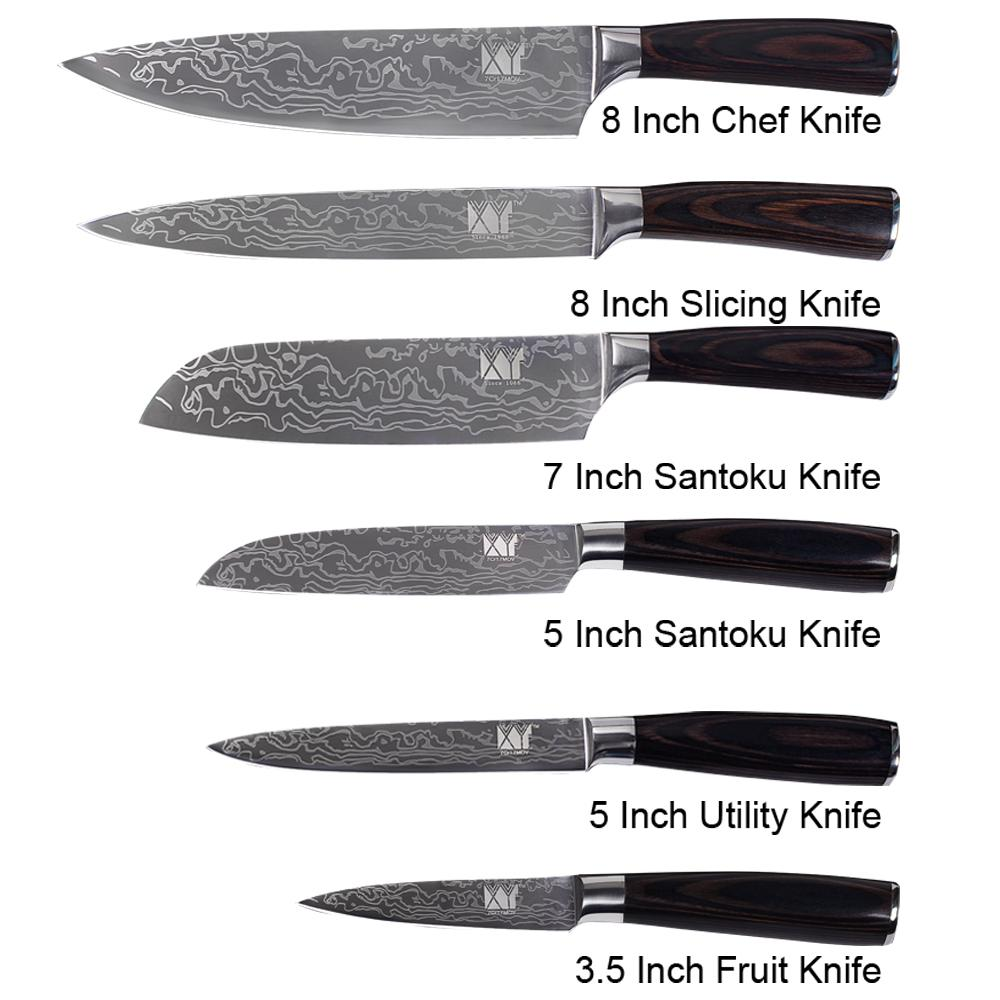knife: (59, 25, 900, 139), (88, 180, 900, 262), (199, 518, 899, 596), (299, 869, 903, 948), (208, 715, 902, 781)
